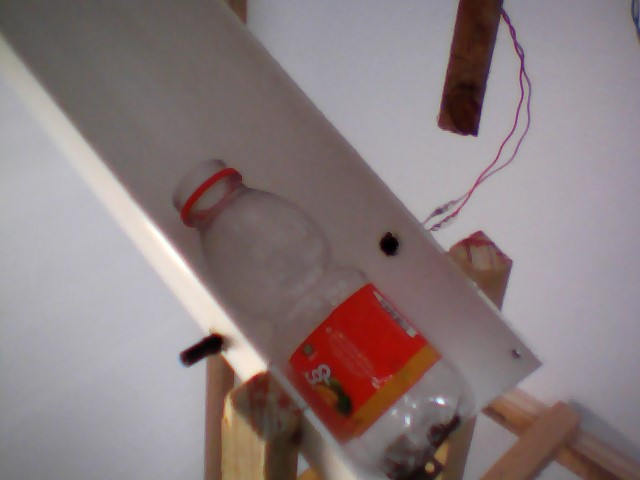plastico: (162, 151, 488, 480)
